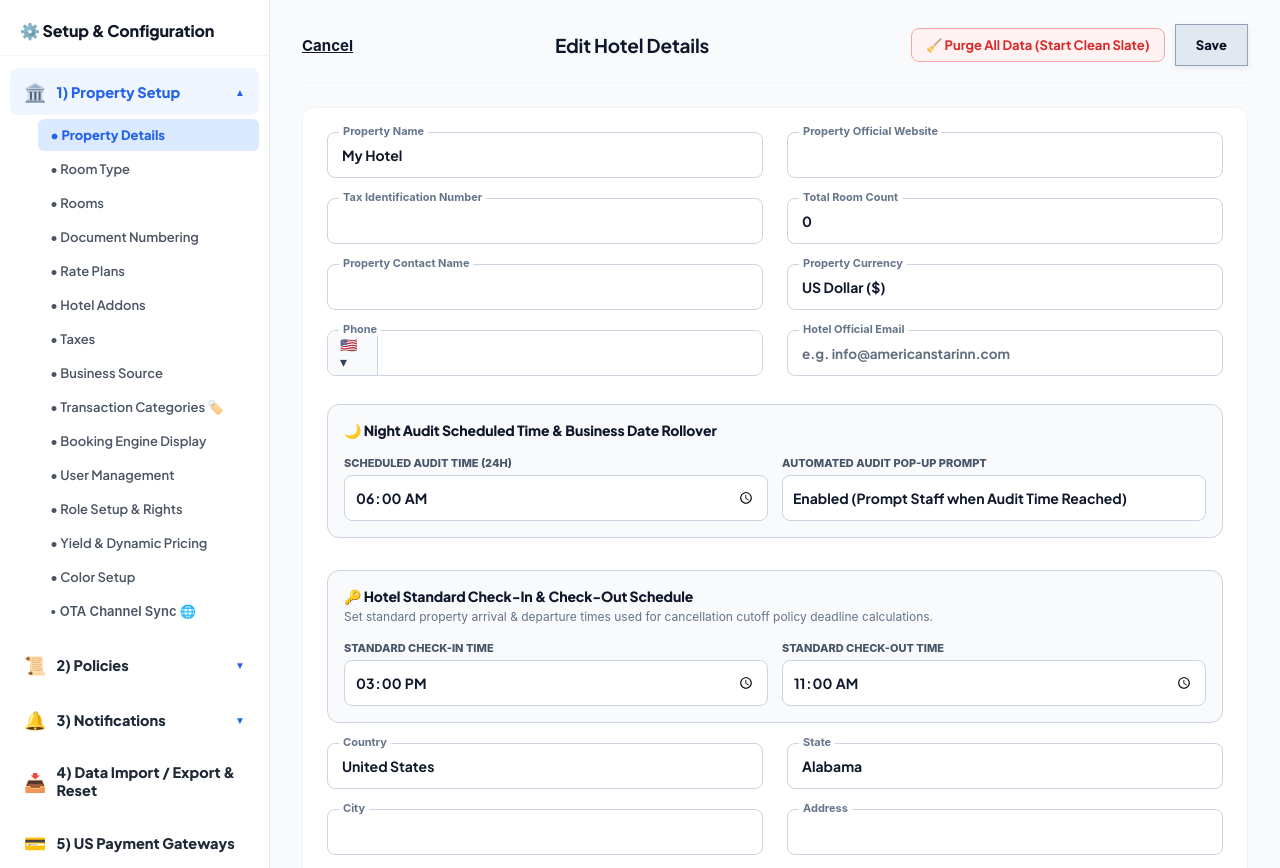
Test case: ConfigurationPanel Component › renders ConfigurationPanel and clicks on Rooms sub-tab without throwing error
Click on Rooms tab
Click the button "• Rooms": (148, 203) [38,187,259,219]
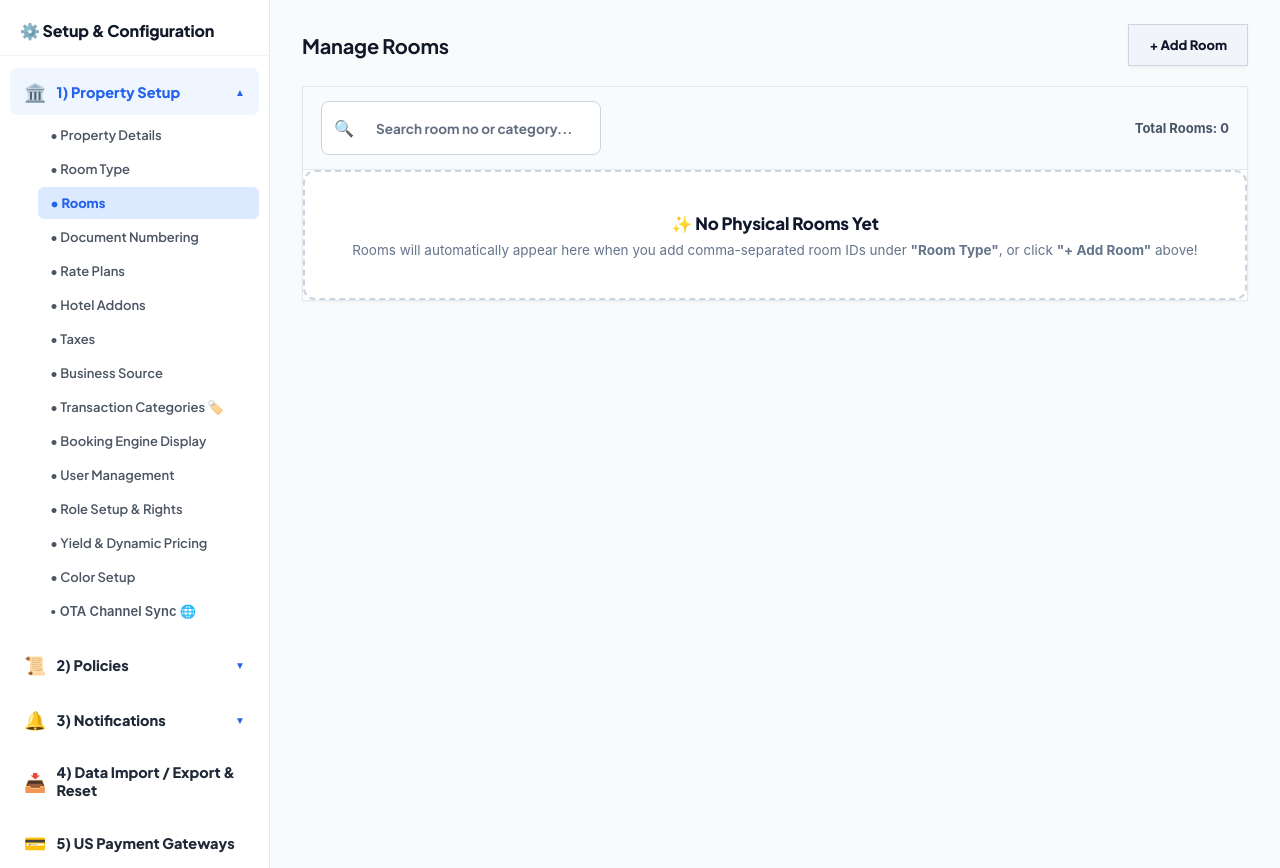
Expected: the heading "Manage Rooms" is shown, [302,32,449,58]
